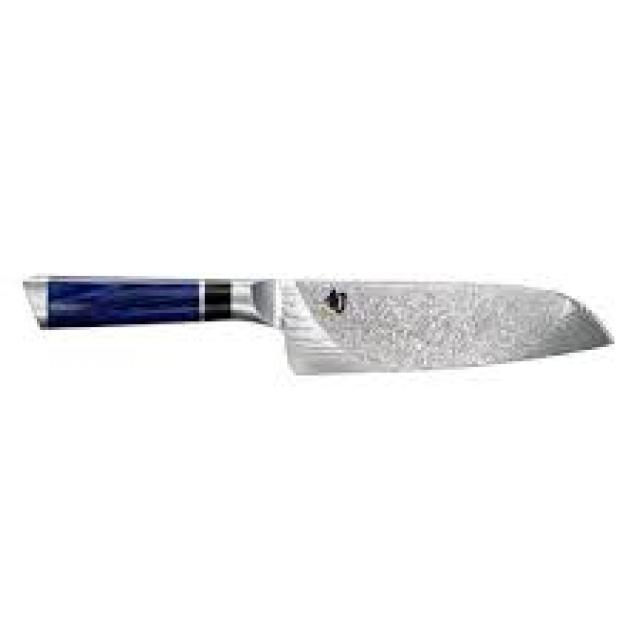Knife: (51, 279, 612, 373)
